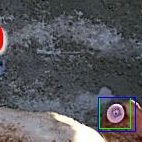text: (99, 97, 130, 128)
